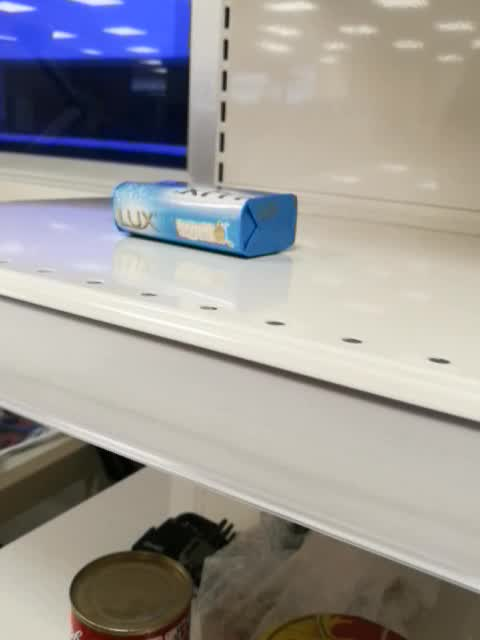soap: (110, 179, 300, 262)
